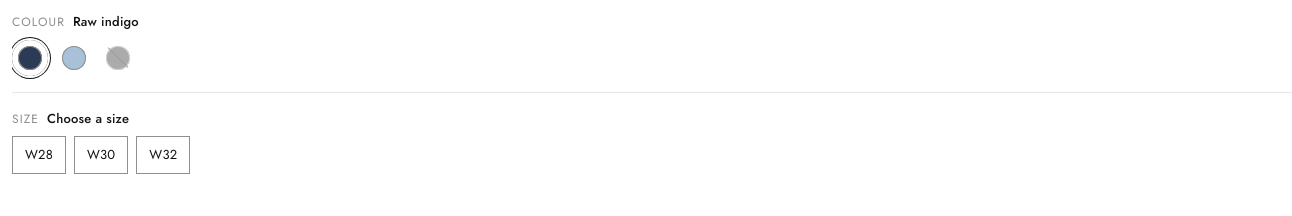
Scenario: ColorPicker › clears a chosen size the new colour does not carry
Click the button "W32". click: (163, 155)
box: [136,136,190,174]
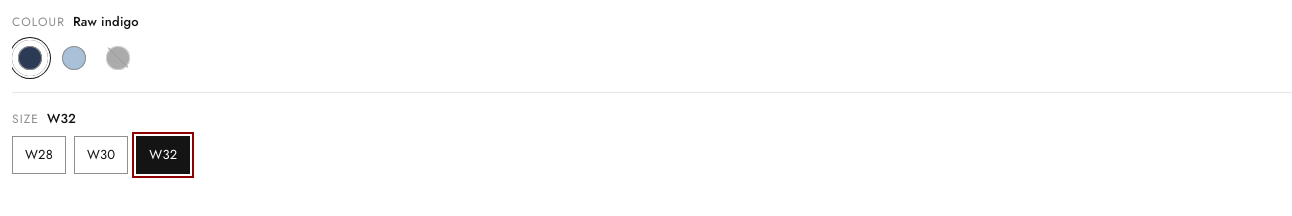
Result: the button "W32" is pressed at [136,136,190,174]
Note: Light wash has no W32. Keeping it selected would be an impossible pair.
Click the button named "Light wash". click: (74, 58)
box: [56,40,92,76]
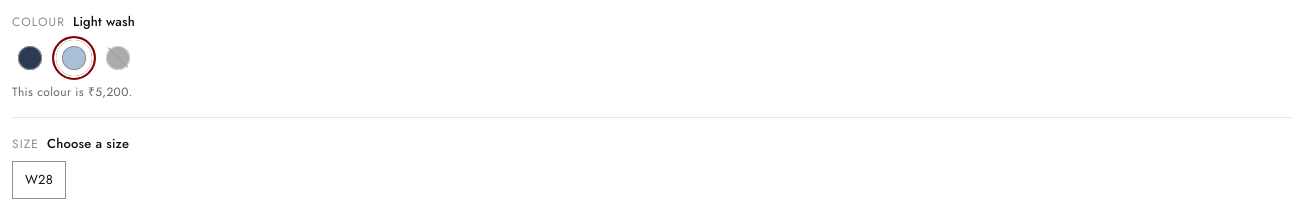
Result: the text "Choose a size" is shown at [47,134,129,153]
